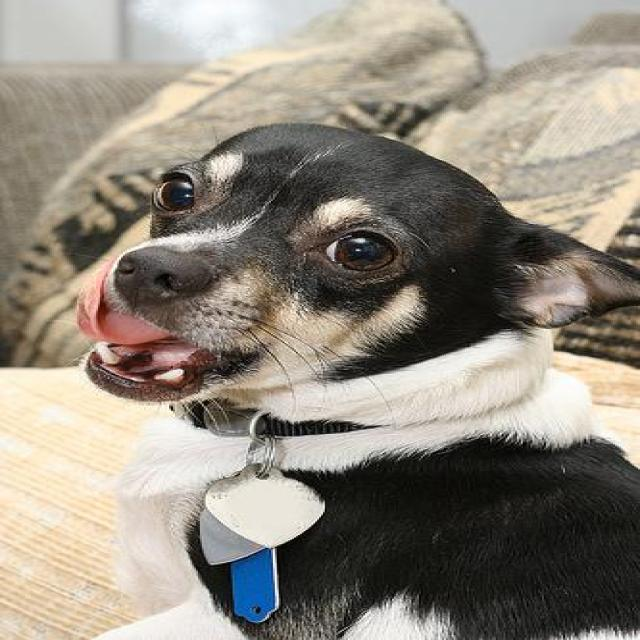toy_terrier: (71, 123, 636, 637)
